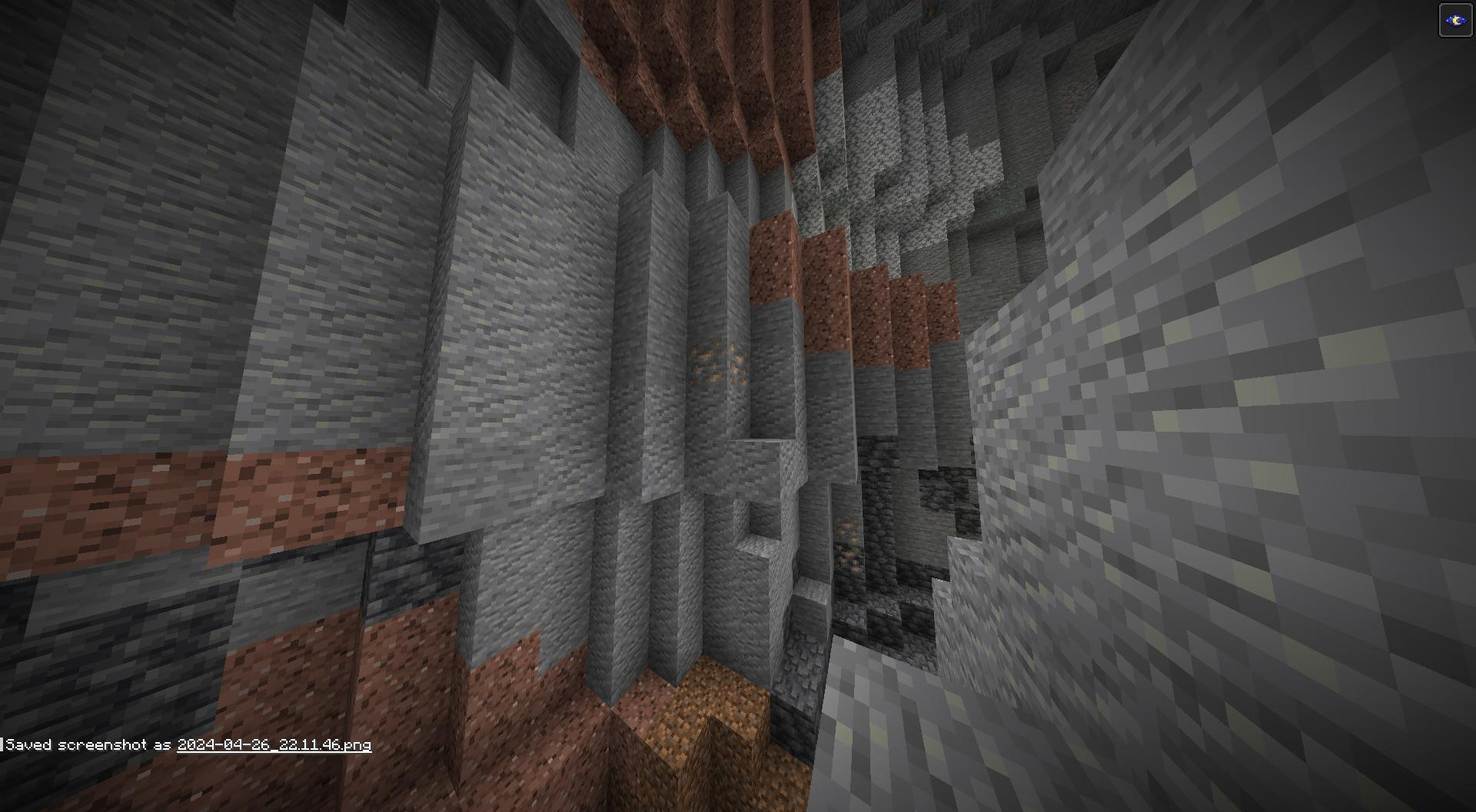iron ore: (686, 339, 727, 383), (832, 508, 865, 543), (725, 338, 750, 383)
